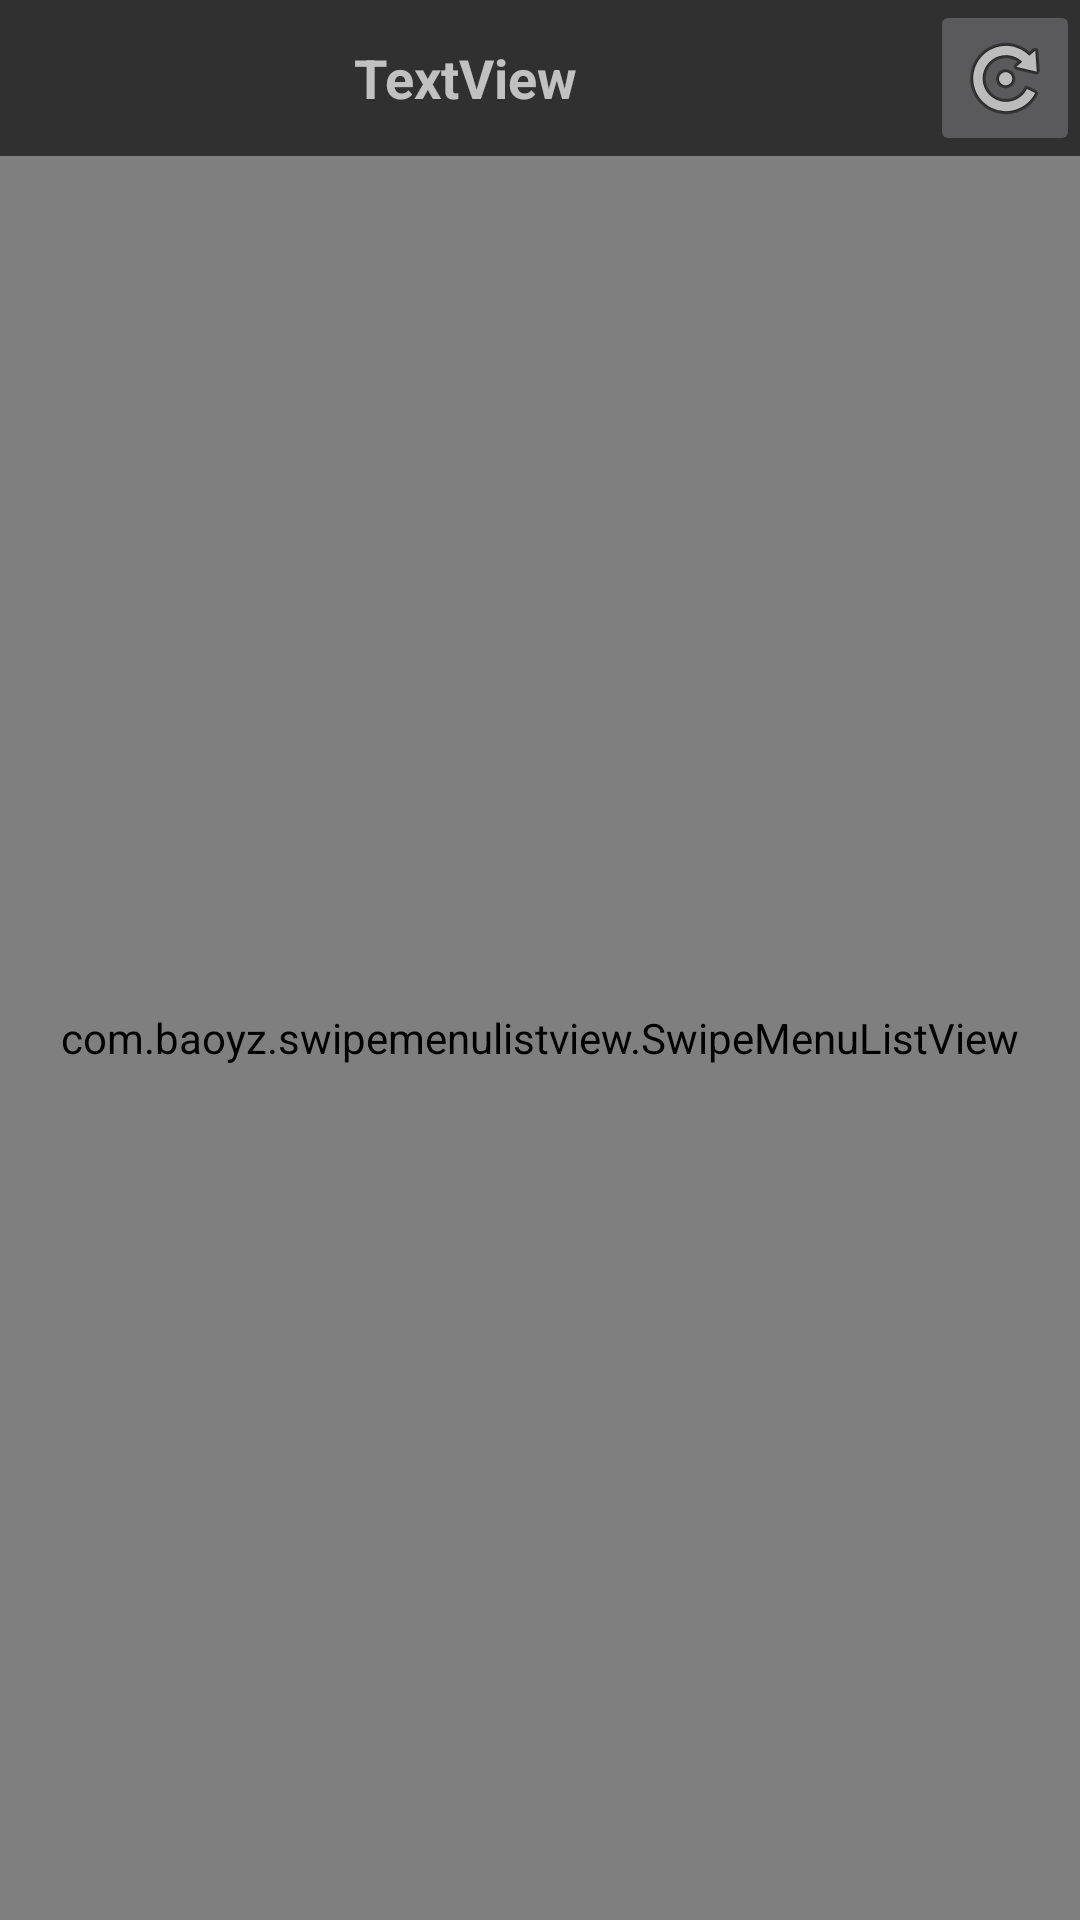

Where icons sit on this 1080px x 1920px app screen, as detection(x1, y1, x2, y2):
rotate: detection(942, 18, 1068, 138)
